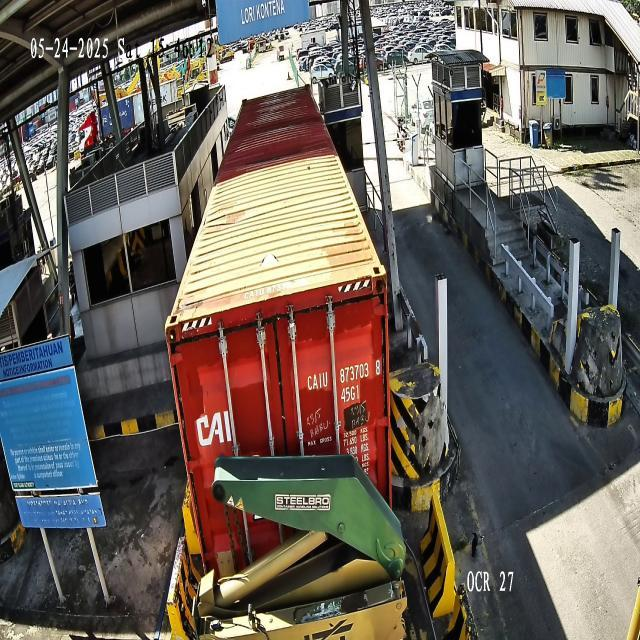ISO: (340, 384, 360, 404)
container_number: (306, 358, 382, 392)
